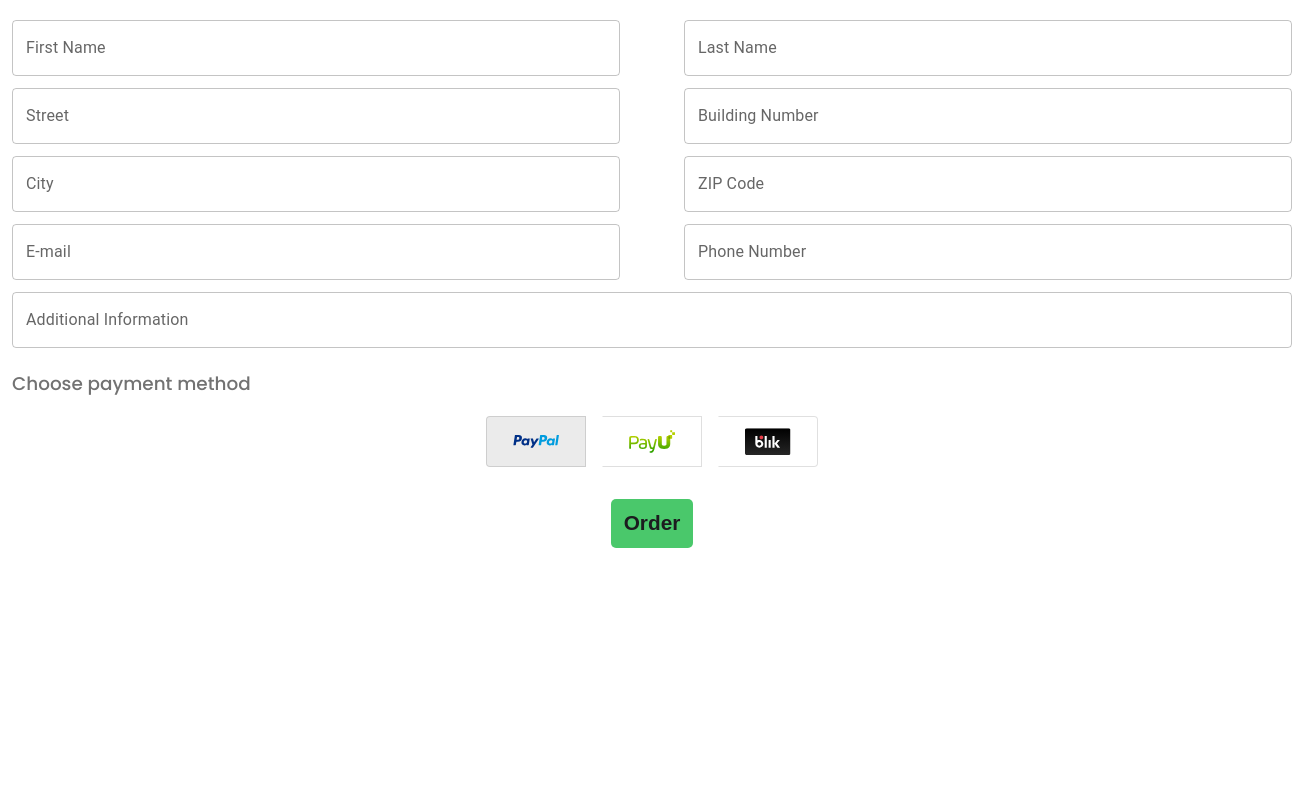
Test: form validation › all required fields are empty
Click the button with test id "submit".
click(652, 523)  # box [611,499,693,548]
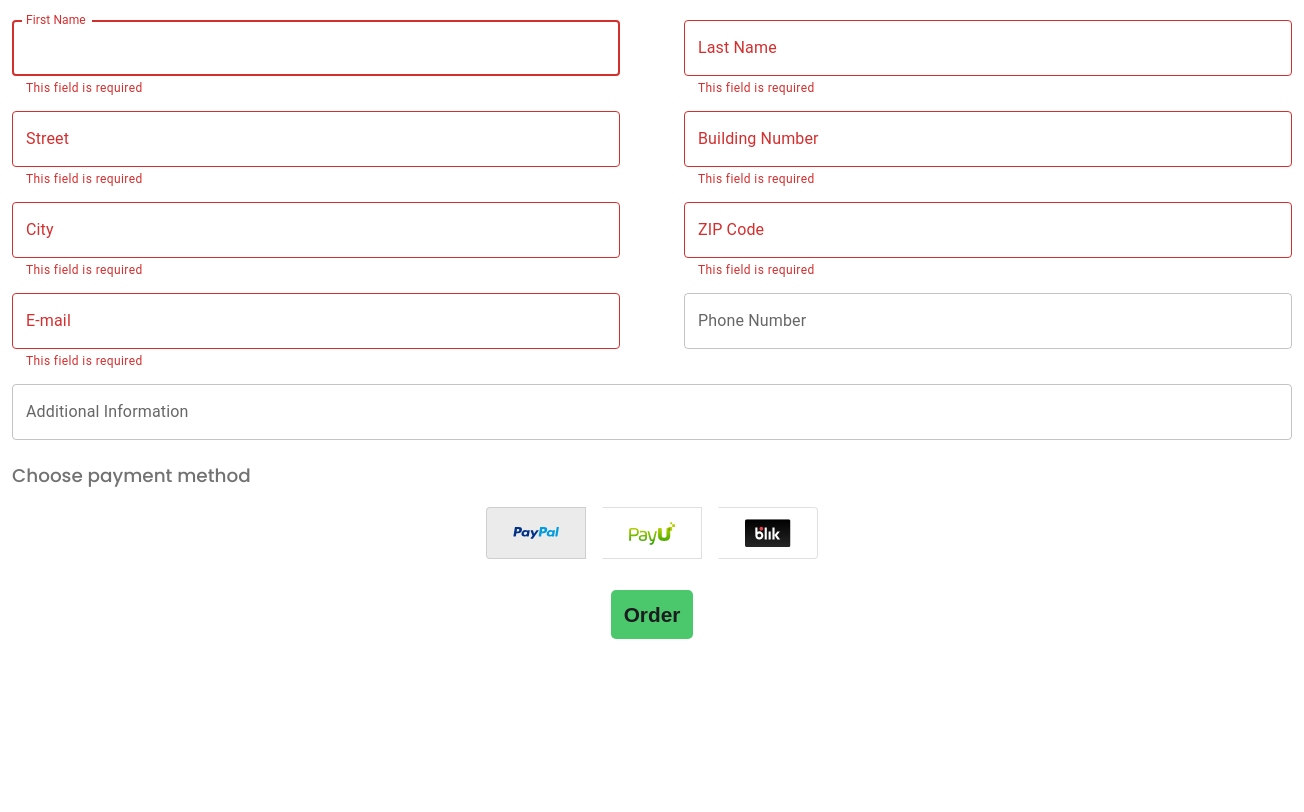
Check: the text "This field is required" is shown 7 times
